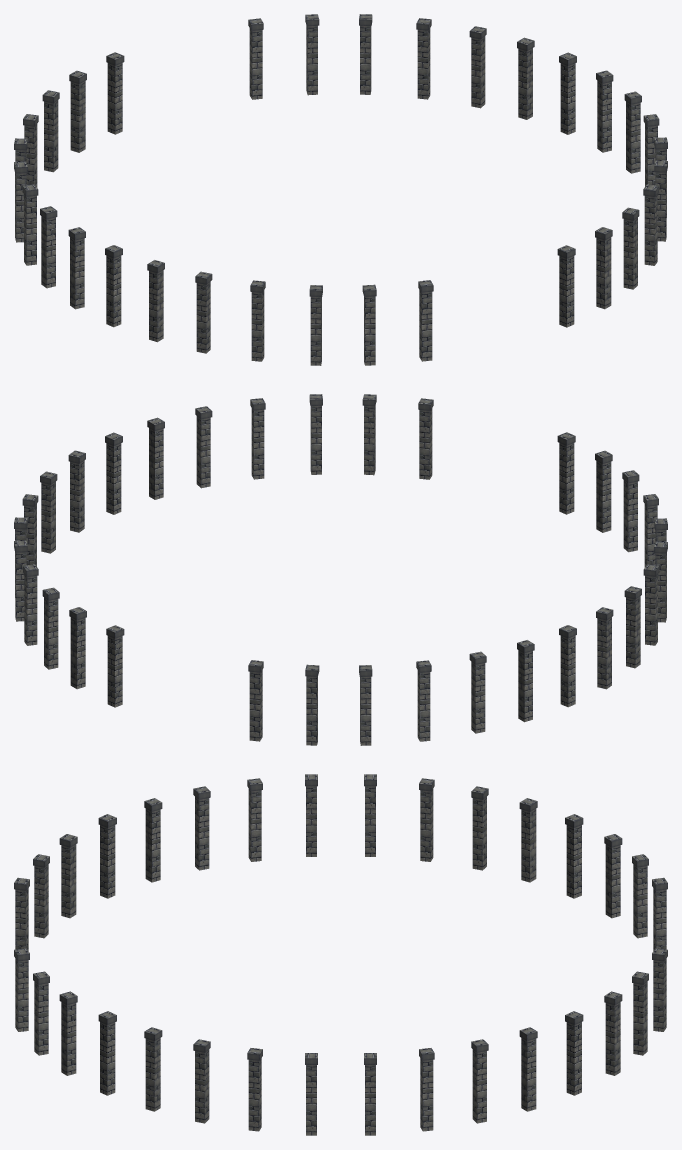
The model's file is Colosseum_Wall_Piller.obj.
The picture shows the model from 3 angles, top to bottom: view 1: azimuth 30°, elevation 25°; view 2: azimuth 150°, elevation 25°; view 3: azimuth 270°, elevation 25°; orthographic projection. The views are drawn at different scales.
Parts seen in each view (by area): view 1: Colo_Wall_Piller_Colo_Wall.001; view 2: Colo_Wall_Piller_Colo_Wall.001; view 3: Colo_Wall_Piller_Colo_Wall.001.
Boxes of the visible parts, x1,y1,x2,y2 form: Colo_Wall_Piller_Colo_Wall.001: (14,14,667,365); Colo_Wall_Piller_Colo_Wall.001: (14,394,667,745); Colo_Wall_Piller_Colo_Wall.001: (14,774,667,1135).
Bounding box in the file's own units: 19.37 × 2.47 × 18.85.
1 material, 1 textured.
